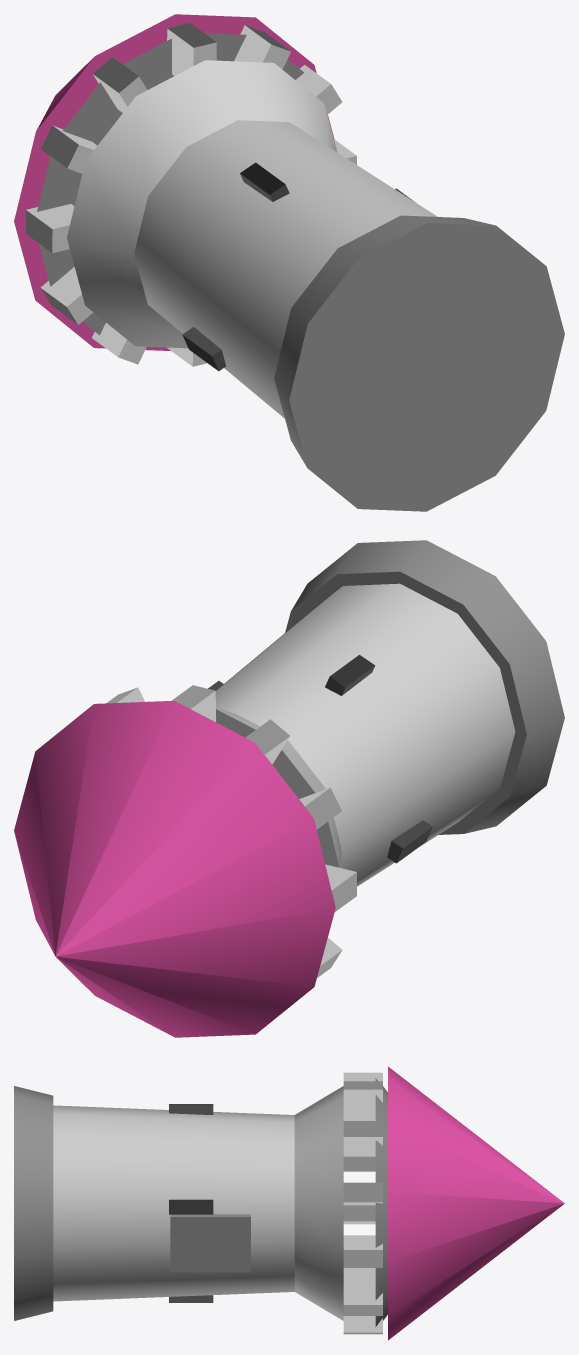
File: arrow_Tower.fbx
3 renders of one model, top to bottom at view 1: azimuth 30°, elevation 25°; view 2: azimuth 150°, elevation 25°; view 3: azimuth 270°, elevation 25°, orthographic. The views are drawn at different scales.
Parts seen in each view (by area): view 1: imagetostl_mesh0, imagetostl_mesh1, imagetostl_mesh6, imagetostl_mesh20, imagetostl_mesh19, imagetostl_mesh10, imagetostl_mesh13, imagetostl_mesh11, imagetostl_mesh12, imagetostl_mesh14, imagetostl_mesh9, imagetostl_mesh3 (+3 smaller); view 2: imagetostl_mesh20, imagetostl_mesh1, imagetostl_mesh0, imagetostl_mesh6, imagetostl_mesh3, imagetostl_mesh11, imagetostl_mesh4, imagetostl_mesh13, imagetostl_mesh12, imagetostl_mesh10; view 3: imagetostl_mesh1, imagetostl_mesh20, imagetostl_mesh6, imagetostl_mesh0, imagetostl_mesh22, imagetostl_mesh19, imagetostl_mesh18, imagetostl_mesh10, imagetostl_mesh9, imagetostl_mesh7, imagetostl_mesh8, imagetostl_mesh2 (+5 smaller).
Part boxes in pixels (box(x1,y1,x2,y2)): imagetostl_mesh0: box(274, 215, 564, 511); imagetostl_mesh1: box(134, 120, 437, 418); imagetostl_mesh6: box(67, 60, 337, 348); imagetostl_mesh20: box(14, 14, 334, 350); imagetostl_mesh19: box(37, 33, 304, 335); imagetostl_mesh10: box(167, 23, 216, 75); imagetostl_mesh13: box(26, 204, 74, 253); imagetostl_mesh11: box(93, 57, 147, 112); imagetostl_mesh12: box(41, 125, 97, 173); imagetostl_mesh14: box(40, 267, 93, 324); imagetostl_mesh9: box(234, 25, 290, 69); imagetostl_mesh3: box(240, 162, 289, 201); imagetostl_mesh20: box(14, 700, 335, 1037); imagetostl_mesh1: box(215, 583, 515, 886); imagetostl_mesh0: box(285, 540, 564, 834); imagetostl_mesh6: box(216, 707, 342, 868); imagetostl_mesh3: box(325, 655, 375, 695); imagetostl_mesh11: box(245, 719, 290, 764); imagetostl_mesh4: box(387, 820, 432, 863); imagetostl_mesh13: box(325, 864, 356, 911); imagetostl_mesh12: box(299, 787, 341, 829); imagetostl_mesh10: box(171, 685, 215, 721); imagetostl_mesh1: box(53, 1105, 294, 1301); imagetostl_mesh20: box(388, 1066, 564, 1340); imagetostl_mesh6: box(294, 1086, 343, 1320); imagetostl_mesh0: box(14, 1086, 53, 1320); imagetostl_mesh22: box(170, 1214, 250, 1272); imagetostl_mesh19: box(375, 1078, 387, 1326); imagetostl_mesh18: box(343, 1276, 382, 1315); imagetostl_mesh10: box(343, 1081, 382, 1120); imagetostl_mesh9: box(343, 1121, 382, 1156); imagetostl_mesh7: box(343, 1235, 382, 1267); imagetostl_mesh8: box(343, 1182, 382, 1205); imagetostl_mesh2: box(169, 1199, 213, 1214).
Size of the model in its own units: 5600 by 5600 by 11200.
